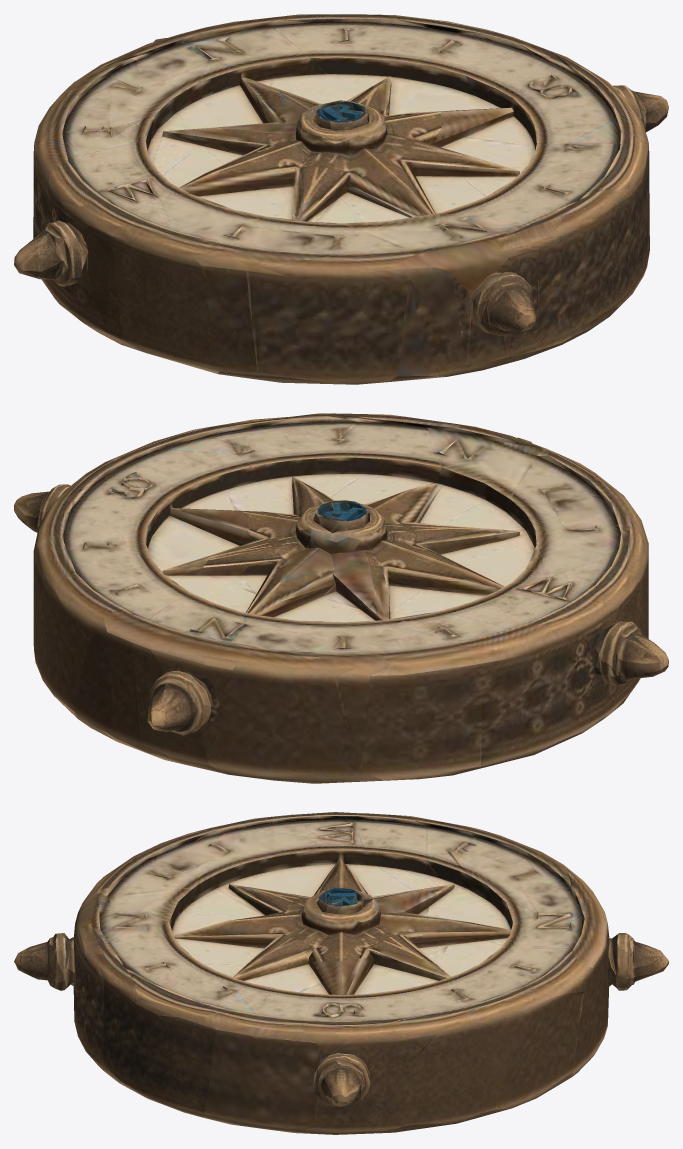
3 views of the same model, one above another, from view 1: azimuth 30°, elevation 25°; view 2: azimuth 150°, elevation 25°; view 3: azimuth 270°, elevation 25° (orthographic). The views are drawn at different scales.
Bounding box in the file's own units: 1 × 0.2146 × 0.9998.
1 material, 1 textured.
